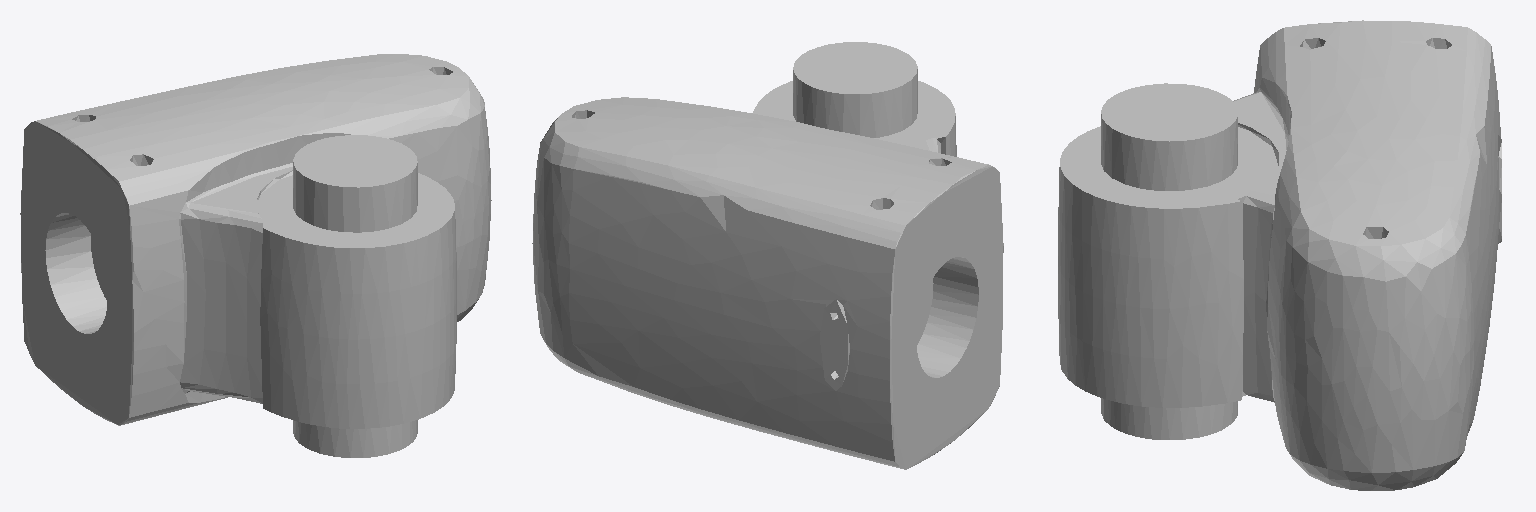
The robot description file, URDF, robot "ve026a":
<?xml version="1.0"?>
<robot name="ve026a">
	<link name="base_link">
		<visual>
			<geometry>
				<mesh filename="package://ve026a_description/robot/base.stl" scale="1 1 1"/>
				<!--box size="0.079 0.079 0.006"/-->
			</geometry>
			<origin xyz="-0.000283 -0.001865 0"/>
			<material name="base_link">
	        	<color rgba="0.3 0.3 0.3 1"/>
			</material>
    	</visual>
    	<!--
		<collision>
			<geometry>
			   <box size="0.079 0.079 0.006"/>
		    </geometry>
      	</collision>
      	-->
      	<inertial>
      		<mass value="0.1"/>
      		<inertia ixx="1.0" ixy="0.0" ixz="0.0" iyy="1.0" iyz="0.0" izz="1.0"/>
    	</inertial>
  	</link>
	
	<link name="link0">
		<visual>
		  	<geometry>
		    	<!--cylinder length="0.130" radius="0.035"/-->
		    	<mesh filename="package://ve026a_description/robot/l0.stl" scale="1 1 1"/>
		  	</geometry>
		  	<origin xyz="-0.000283 -0.001865 0"/>
		  	<material name="link">
		    	<color rgba="0.8 0.8 0.8 1"/>
		  	</material>
		</visual>
		<!--
		<collision>
			<geometry>
			   <cylinder length="0.130" radius="0.035"/>
		    </geometry>
		    <origin xyz="0 0 0.065"/>
      	</collision>
      	-->
      	<inertial>
      		<mass value="0.1"/>
      		<inertia ixx="1.0" ixy="0.0" ixz="0.0" iyy="1.0" iyz="0.0" izz="1.0"/>
    	</inertial>
	</link>
	
	
	<joint name="J0" type="fixed">
		<axis xyz="0 0 1"/>
		<origin rpy="0 0 0" xyz="0.0 0.0 0.0"/>
		<parent link="base_link"/>
		<child link="link0"/>
	</joint>
	
	<link name="link1">
    	<visual>
      		<geometry>
				<!--box size="0.040 0.050 0.100"/ -->
		    	<mesh filename="package://ve026a_description/robot/l1.stl" scale="1 1 1"/>
			</geometry>
			<origin xyz="-0.000283 -0.001865 0"/>
			<material name="joint">
        		<color rgba="0.5 0.5 0.5 1"/>
      		</material>
    	</visual>
    	<!--
    	<collision>
			<geometry>
			   <box size="0.040 0.050 0.100"/>
		    </geometry>
		    <origin xyz="0 0 0.050"/>
      	</collision>
      	-->
      	<inertial>
      		<mass value="0.1"/>
      		<inertia ixx="1.0" ixy="0.0" ixz="0.0" iyy="1.0" iyz="0.0" izz="1.0"/>
    	</inertial>
  	</link>
	<joint name="J1" type="revolute">
    	<axis xyz="0 0 1"/>
    	<limit effort="1000.0" lower="-1.39626" upper="1.83259" velocity="3.0"/>
    	<origin rpy="0 0 0" xyz="0.0 0.0 0.0"/>
    	<parent link="link0"/>
    	<child link="link1"/>
  	</joint>
  	
  	<link name="link2">
    	<visual>
      		<geometry>
				<!-- box size="0.040 0.050 0.100"/ -->
				<mesh filename="package://ve026a_description/robot/l2.stl" scale="1 1 1"/>
			</geometry>
			<origin xyz="-0.000283 -0.001865 -0.130"/>
			<material name="link"/>
    	</visual>
    	<!--
    	<collision>
			<geometry>
			   <box size="0.040 0.050 0.100"/>
		    </geometry>
		    <origin xyz="0 0 0.050"/>
      	</collision>
      	-->
      	<inertial>
      		<mass value="0.1"/>
      		<inertia ixx="1.0" ixy="0.0" ixz="0.0" iyy="1.0" iyz="0.0" izz="1.0"/>
    	</inertial>
  	</link>
  
  	<joint name="J2" type="revolute">
    	<axis xyz="0 1 0"/>
    	<limit effort="1000.0" lower="-0.61086" upper="1.57075" velocity="3.0"/>
    	<origin rpy="0 0 0" xyz="0.0 0.0 0.130"/>
    	<parent link="link1"/>
    	<child link="link2"/>
  	</joint>
  	
  	<link name="link3">
    	<visual>
      		<geometry>
				<!--box size="0.040 0.030 0.020"/-->
				<mesh filename="package://ve026a_description/robot/l3.stl" scale="1 1 1"/>
			</geometry>
			<origin xyz="-0.000283 -0.001865 -0.230"/>
			<material name="joint"/>
    	</visual>
    	<!--
    	<collision>
			<geometry>
			   <box size="0.040 0.030 0.020"/>
		    </geometry>
		    <origin xyz="0 0 0.010"/>
      	</collision>
      	-->
      	<inertial>
      		<mass value="0.1"/>
      		<inertia ixx="1.0" ixy="0.0" ixz="0.0" iyy="1.0" iyz="0.0" izz="1.0"/>
    	</inertial>
  	</link>
 	
 	<joint name="J3" type="revolute">
	    <axis xyz="0 1 0"/>
    	<limit effort="1000.0" lower="-1.30899" upper="2.35619" velocity="3.0"/>
    	<origin rpy="0 0 0" xyz="0.0 0.0 0.100"/>
	    <parent link="link2"/>
    	<child link="link3"/>
	</joint>
	
	<link name="link4">
    	<visual>
    		<geometry>
				<!--box size="0.030 0.050 0.070"/-->
				<mesh filename="package://ve026a_description/robot/l4.stl" scale="1 1 1"/>
			</geometry>
			<origin xyz="-0.000283 -0.001865 -0.248"/>
			<material name="link"/>
    	</visual>
    	<!--
    	<collision>
				<geometry>
				<box size="0.030 0.050 0.070"/>
			</geometry>
			<origin xyz="0 0 0.035"/>
      	</collision>
      	-->
      	<inertial>
      		<mass value="0.1"/>
      		<inertia ixx="1.0" ixy="0.0" ixz="0.0" iyy="1.0" iyz="0.0" izz="1.0"/>
    	</inertial>
	</link>
  
	<joint name="J4" type="revolute">
		<axis xyz="0 0 1"/>
		<limit effort="1000.0" lower="-2.44346" upper="2.44346" velocity="3.0"/>
		<origin rpy="0 0 0" xyz="0.0 0.0 0.018"/>
		<parent link="link3"/>
    	<child link="link4"/>
	</joint>

	<link name="link5">
		<visual>
			<geometry>
				<!--box size="0.040 0.030 0.020"/-->
				<mesh filename="package://ve026a_description/robot/l5.stl" scale="1 1 1"/>
			</geometry>
			<origin xyz="-0.000283 -0.001865 -0.320"/>
			<material name="joint"/>
		</visual>
		<!--
		<collision>
			<geometry>
				<box size="0.040 0.030 0.020"/>
			</geometry>
			<origin xyz="0 0 0.010"/>
      	</collision>
      	-->
      	<inertial>
      		<mass value="0.1"/>
      		<inertia ixx="1.0" ixy="0.0" ixz="0.0" iyy="1.0" iyz="0.0" izz="1.0"/>
    	</inertial>
	</link>
 	
	<joint name="J5" type="revolute">
		<axis xyz="0 1 0"/>
		<limit effort="1000.0" lower="-1.57075" upper="1.83259" velocity="3.0"/>
		<origin rpy="0 0 0" xyz="0.0 0.0 0.075"/>
		<parent link="link4"/>
		<child link="link5"/>
	</joint>
	
	<link name="link6">
		<visual>
			<geometry>
				<!--box size="0.050 0.030 0.068"/-->
				<mesh filename="package://ve026a_description/robot/l6.stl" scale="1 1 1"/>
			</geometry>
			<origin xyz="-0.000283 -0.001865 -0.338"/>
			<material name="link"/>
		</visual>
		<!--
		<collision>
			<geometry>
				<box size="0.050 0.030 0.068"/>
			</geometry>
			<origin xyz="0 0 0.034"/>
      	</collision>
      	-->
      	<inertial>
      		<mass value="0.1"/>
      		<inertia ixx="1.0" ixy="0.0" ixz="0.0" iyy="1.0" iyz="0.0" izz="1.0"/>
    	</inertial>
	</link>
  
	<joint name="J6" type="revolute">
		<axis xyz="0 0 1"/>
		<limit effort="1000.0" lower="-2.44346" upper="2.44346" velocity="3.0"/>
		<origin rpy="0 0 0" xyz="0.0 0.0 0.018"/>
		<parent link="link5"/>
		<child link="link6"/>
	</joint>
	
	<link name="link7">
		<visual>
			<geometry>
				<cylinder length="0.010" radius="0.01"/>
			</geometry>
			<origin xyz="0 0 0"/>
			<material name="joint"/>
		</visual>
		<!--
		<collision>
			<geometry>
				<box size="0.050 0.030 0.010"/>
			</geometry>
			<origin xyz="0 0 0.005"/>
      	</collision>
      	-->
      	<inertial>
      		<mass value="0.1"/>
      		<inertia ixx="1.0" ixy="0.0" ixz="0.0" iyy="1.0" iyz="0.0" izz="1.0"/>
    	</inertial>
	</link>

	<joint name="J7" type="revolute">
		<axis xyz="0 0 1"/>
		<limit effort="1000.0" lower="-0.63633" upper="0.43633" velocity="3.0"/> 
		<origin rpy="0 0 0" xyz="0.0 0.0 0.068"/>
		<parent link="link6"/>
		<child link="link7"/>
	</joint>
	
<!--  
  	
	

  
	
  
	<link name="link5">
		<visual>
			<geometry>
				<box size="0.050 0.030 0.068"/>
			</geometry>
			<origin xyz="0 0 0.034"/>
			<material name="link"/>
		</visual>
		<collision>
			<geometry>
				<box size="0.050 0.030 0.068"/>
			</geometry>
			<origin xyz="0 0 0.034"/>
      	</collision>
      	<inertial>
      		<mass value="0.1"/>
      		<inertia ixx="1.0" ixy="0.0" ixz="0.0" iyy="1.0" iyz="0.0" izz="1.0"/>
    	</inertial>
	</link>
  
	<joint name="J6" type="revolute">
		<axis xyz="0 0 1"/>
		<limit effort="1000.0" lower="-2.44346" upper="2.44346" velocity="3.0"/>
		<origin rpy="0 0 0" xyz="0.0 0.0 0.020"/>
		<parent link="link4"/>
		<child link="link5"/>
	</joint>

	<link name="link6">
		<visual>
			<geometry>
				<box size="0.050 0.030 0.010"/>
			</geometry>
			<origin xyz="0 0 0.005"/>
			<material name="joint"/>
		</visual>
		<collision>
			<geometry>
				<box size="0.050 0.030 0.010"/>
			</geometry>
			<origin xyz="0 0 0.005"/>
      	</collision>
      	<inertial>
      		<mass value="0.1"/>
      		<inertia ixx="1.0" ixy="0.0" ixz="0.0" iyy="1.0" iyz="0.0" izz="1.0"/>
    	</inertial>
	</link>

	<joint name="J7" type="fixed">
		<axis xyz="0 0 1"/>
		<limit effort="1000.0" lower="-1.30899" upper="0.43633" velocity="3.0"/> 
		<origin rpy="0 0 0" xyz="0.0 0.0 0.068"/>
		<parent link="link5"/>
		<child link="link6"/>
	</joint>

	<link name="gripper_left">
		<visual>
			<geometry>
				<box size="0.020 0.002 0.030"/>
			</geometry>
			<origin xyz="0 0 0.025"/>
			<material name="gripper">
				<color rgba="0.8 0.8 0.3 1"/>
			</material>
		</visual>
		<collision>
			<geometry>
				<box size="0.020 0.002 0.030"/>
			</geometry>
			<origin xyz="0 0 0.025"/>
      	</collision>
      	<inertial>
      		<mass value="0.1"/>
      		<inertia ixx="1.0" ixy="0.0" ixz="0.0" iyy="1.0" iyz="0.0" izz="1.0"/>
    	</inertial>
	</link>

	<joint name="J7_left" type="prismatic">
		<axis xyz="0 1 0"/>
		<limit effort="1000.0" lower="0.013" upper="0.0215" velocity="3.0"/>
		<origin rpy="0 0 0" xyz="0.0 0.0 0.0"/>
		<parent link="link6"/>
		<child link="gripper_left"/>
	</joint>

	<link name="gripper_right">
		<visual>
			<geometry>
				<box size="0.020 0.002 0.030"/>
			</geometry>
			<origin xyz="0 0 0.025"/>
			<material name="gripper"/>
		</visual>
		<collision>
			<geometry>
				<box size="0.020 0.002 0.030"/>
			</geometry>
			<origin xyz="0 0 0.025"/>
      	</collision>
      	<inertial>
      		<mass value="0.1"/>
      		<inertia ixx="1.0" ixy="0.0" ixz="0.0" iyy="1.0" iyz="0.0" izz="1.0"/>
    	</inertial>
	</link>

	<joint name="J7_right" type="prismatic">
		<axis xyz="0 1 0"/>
		<limit effort="1000.0" lower="-0.013" upper="-0.0215" velocity="3.0"/>
		<origin rpy="0 0 0" xyz="0.0 0.0 0.0"/>
		<parent link="link6"/>
		<child link="gripper_right"/>
	</joint>
-->
</robot>

--- Facts derived from the render (not from the file) ---
The picture shows the robot from 3 angles, left to right: view 1: azimuth 30°, elevation 25°; view 2: azimuth 150°, elevation 25°; view 3: azimuth 270°, elevation 25°; orthographic projection.
Robot: ve026a — 9 links, 8 joints (7 revolute, 1 fixed); root link base_link; default pose: every joint at zero.
Links seen in each view (by area): view 1: link2; view 2: link2; view 3: link2.
Link boxes in pixels (left/top/right/bottom): link2: left=20, top=54, right=491, bottom=457; link2: left=532, top=42, right=1003, bottom=469; link2: left=1058, top=20, right=1501, bottom=490.
Bounding box of the posed robot: 187 × 162 × 120 m (x, y, z).
Meshes: 8 distinct files referenced, 8 mesh visuals loaded (8 binary STL).